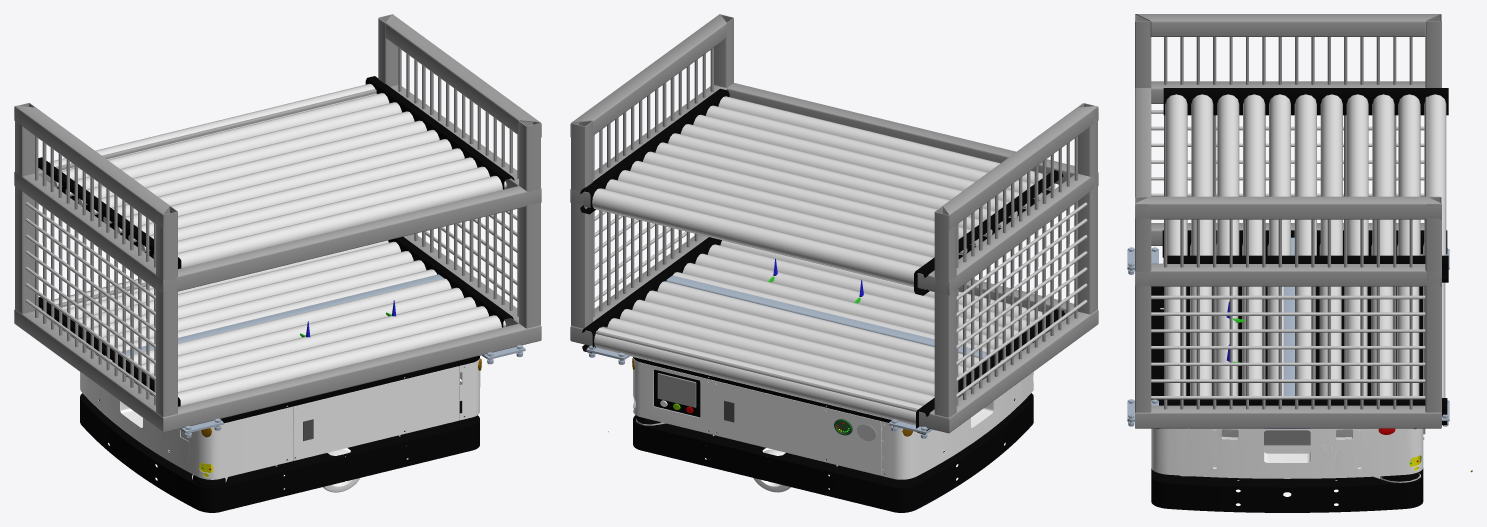
File: Trolley.fbx
3 views of the same model, side by side, from view 1: azimuth 30°, elevation 25°; view 2: azimuth 150°, elevation 25°; view 3: azimuth 270°, elevation 25° (orthographic). The views are drawn at different scales.
Parts seen in each view (by area): view 1: geo_grey_matte_4, geo_chrome_1.001, geo_chrome_1, geo_grey_8, geo_rubber_11, geo_concrete_white_10, geo_aluminium_2.002, geo_aluminium_2, geo_light_aqua_matte_6; view 2: geo_grey_matte_4, geo_chrome_1.001, geo_chrome_1, geo_grey_8, geo_rubber_11, geo_concrete_white_10, geo_aluminium_2.002, geo_light_aqua_matte_6, geo_aluminium_2, geo_black_13; view 3: geo_grey_matte_4, geo_chrome_1.001, geo_chrome_1, geo_rubber_11, geo_grey_8, geo_concrete_white_10, geo_aluminium_2.002, geo_aluminium_2, geo_light_aqua_matte_6, geo_light_grey_7.
Boxes of the visible parts, x1,y1,x2,y2 form: geo_grey_matte_4: (14, 14, 541, 432); geo_chrome_1.001: (49, 83, 506, 268); geo_chrome_1: (54, 240, 505, 405); geo_grey_8: (80, 358, 480, 492); geo_rubber_11: (80, 356, 479, 512); geo_concrete_white_10: (25, 202, 517, 397); geo_aluminium_2.002: (38, 76, 514, 268); geo_aluminium_2: (38, 237, 513, 406); geo_light_aqua_matte_6: (102, 274, 525, 437); geo_grey_matte_4: (570, 14, 1098, 433); geo_chrome_1.001: (592, 96, 1055, 286); geo_chrome_1: (594, 240, 1056, 425); geo_grey_8: (633, 357, 1033, 492); geo_rubber_11: (633, 357, 1033, 512); geo_concrete_white_10: (594, 202, 1087, 397); geo_aluminium_2.002: (580, 88, 1063, 295); geo_light_aqua_matte_6: (586, 275, 1058, 438); geo_aluminium_2: (582, 237, 1064, 434); geo_black_13: (636, 274, 1030, 445); geo_grey_matte_4: (1135, 14, 1441, 434); geo_chrome_1.001: (1165, 94, 1446, 255); geo_chrome_1: (1167, 243, 1445, 397); geo_rubber_11: (1151, 286, 1423, 512); geo_grey_8: (1151, 308, 1423, 478); geo_concrete_white_10: (1151, 110, 1425, 399); geo_aluminium_2.002: (1163, 88, 1448, 282); geo_aluminium_2: (1162, 230, 1447, 424); geo_light_aqua_matte_6: (1127, 230, 1449, 426); geo_light_grey_7: (1221, 430, 1419, 482).
Bounding box in the file's own units: 106 × 88.84 × 81.08.
